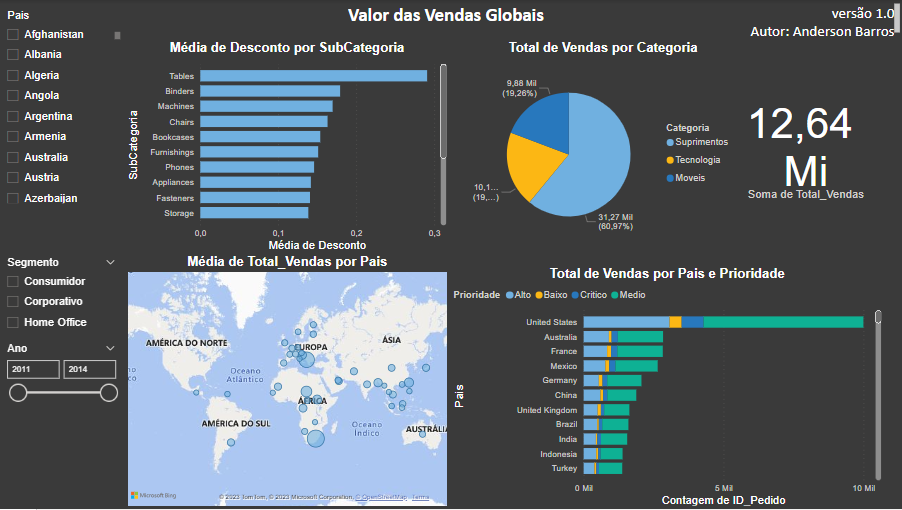

The page's visual inventory and layout, read from the dashboard file:
{"tool":"powerbi","page":{"name":"Projeto1","canvas":[1280,720],"ordinal":0},"visuals":[{"type":"card","fields":{"Values":["Sum(dataset.Total_Vendas)"]},"box":[1031.9,56,222.8,303.2],"z":0},{"type":"pieChart","title":"Total de Vendas por Categoria","fields":{"Category":["dataset.Categoria"],"Y":["CountNonNull(dataset.ID_Cliente)"]},"box":[665.4,56,382.3,303.2],"z":1000},{"type":"barChart","title":"Total de Vendas por Pais e Prioridade","fields":{"Category":["dataset.Pais"],"Y":["CountNonNull(dataset.ID_Pedido)"],"Series":["dataset.Prioridade"]},"box":[640,376.3,614.8,344.4],"z":2000},{"type":"clusteredBarChart","fields":{"Category":["dataset.SubCategoria"],"Y":["Avg(dataset.Desconto)"]},"box":[178.2,56,461.3,303.2],"z":3000},{"type":"map","fields":{"Category":["dataset.Pais"],"Size":["Avg(dataset.Total_Vendas)"]},"box":[178.1,359.5,461.9,361.2],"z":4000},{"type":"slicer","fields":{"Values":["dataset.Pais"]},"box":[0,8.3,178.4,284.1],"z":4001},{"type":"slicer","fields":{"Values":["dataset.Segmento"]},"box":[0,358.4,178.4,122.2],"z":4002},{"type":"slicer","fields":{"Values":["dataset.Data_Pedido.Variation.Hierarquia de datas.Ano"]},"box":[0,480,178,240],"z":4003},{"type":"textbox","box":[100.6,0,1066.3,44.6],"z":4004},{"type":"textbox","box":[947.1,0,333.4,56],"z":4005}]}

Visuals, with their boxes in screenshot pixels (x1, y1, x2, y2), scaled from the page's 1280x720 canvas onto the 902x510 screenshot:
card - Sum(dataset.Total_Vendas): bbox=(727, 40, 884, 254)
"Total de Vendas por Categoria" pieChart: bbox=(469, 40, 738, 254)
"Total de Vendas por Pais e Prioridade" barChart: bbox=(451, 267, 884, 509)
clusteredBarChart - dataset.SubCategoria x Avg(dataset.Desconto): bbox=(126, 40, 451, 254)
map - dataset.Pais x Avg(dataset.Total_Vendas): bbox=(126, 255, 451, 509)
slicer - dataset.Pais: bbox=(0, 6, 126, 207)
slicer - dataset.Segmento: bbox=(0, 254, 126, 340)
slicer - dataset.Data_Pedido.Variation.Hierarquia de datas.Ano: bbox=(0, 340, 125, 509)
textbox: bbox=(71, 0, 822, 32)
textbox: bbox=(667, 0, 901, 40)
